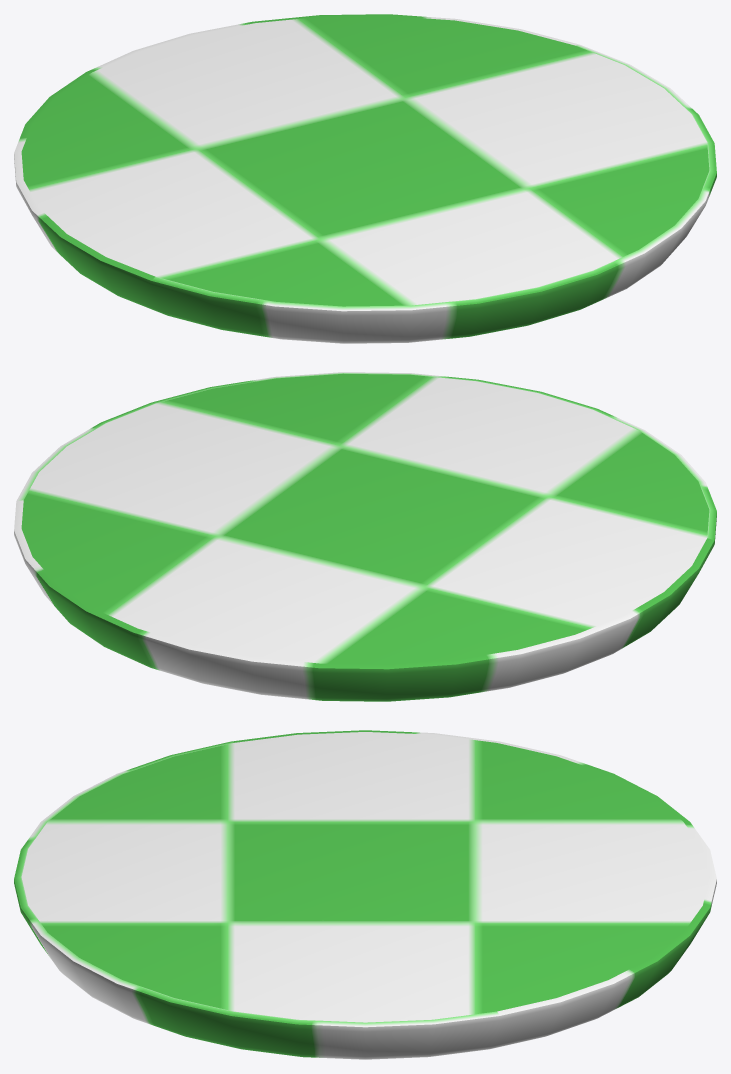
File: RoundedBigLight.FBX
3 views of the same model, one above another, from view 1: azimuth 30°, elevation 25°; view 2: azimuth 150°, elevation 25°; view 3: azimuth 270°, elevation 25° (orthographic).
Parts seen in each view (by area): view 1: RoundedBigLight_Body; view 2: RoundedBigLight_Body; view 3: RoundedBigLight_Body.
Part boxes in pixels (x1,y1,x2,y2): RoundedBigLight_Body: (14, 14, 716, 343); RoundedBigLight_Body: (14, 372, 716, 701); RoundedBigLight_Body: (14, 730, 716, 1059).
Bounding box in the file's own units: 160 × 160 × 12.1.
